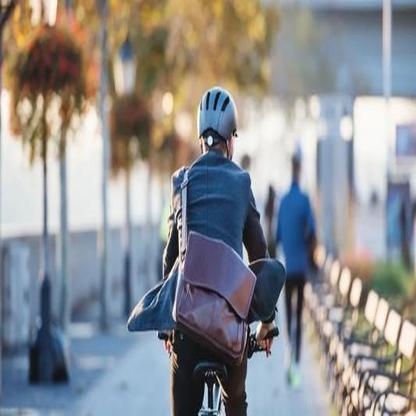target: (144, 86, 286, 409)
